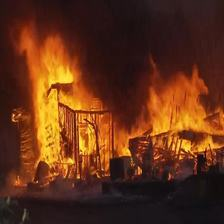fire: (18, 31, 120, 184), (133, 55, 222, 175)
